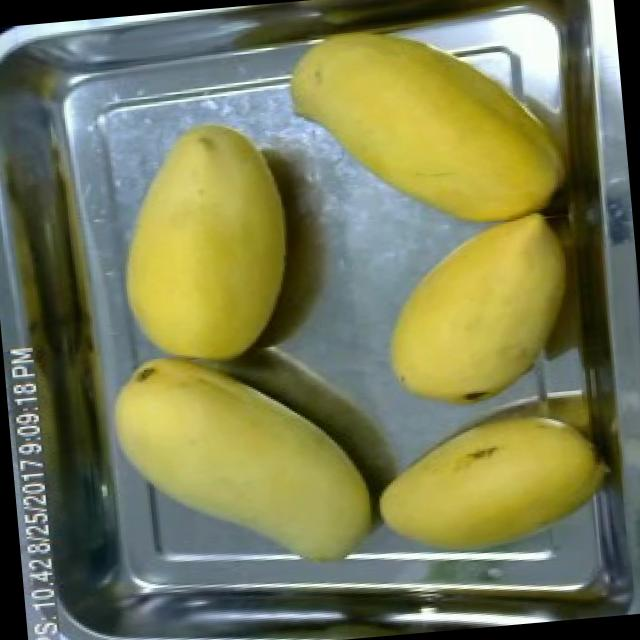fruit: (269, 0, 588, 258), (101, 332, 394, 590), (91, 103, 314, 384), (366, 200, 588, 421), (358, 395, 624, 576)
